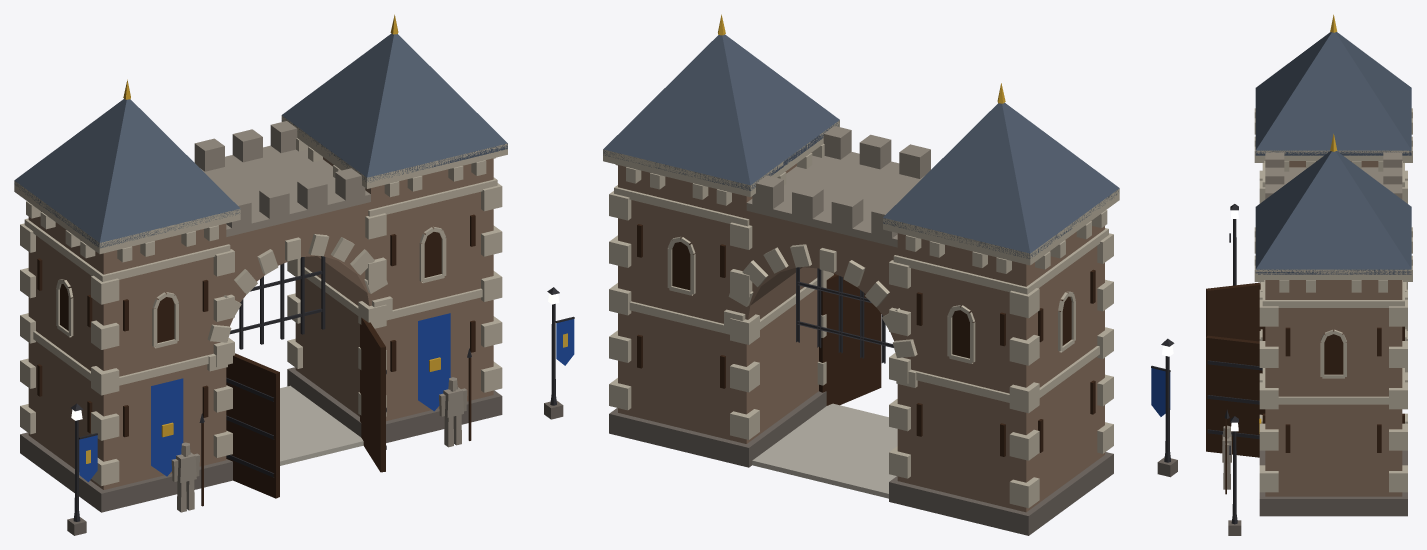
File: gate_main.fbx
The picture shows the model from 3 angles, left to right: view 1: azimuth 30°, elevation 25°; view 2: azimuth 150°, elevation 25°; view 3: azimuth 270°, elevation 25°; orthographic projection. The views are drawn at different scales.
Visible parts, largest first — view 1: gate_main; view 2: gate_main; view 3: gate_main.
Part boxes in pixels (bbox=[...]): gate_main: bbox=[14, 14, 574, 535]; gate_main: bbox=[603, 14, 1177, 535]; gate_main: bbox=[1206, 14, 1412, 535].
Size of the model in its own units: 13.87 by 10.25 by 5.43.
